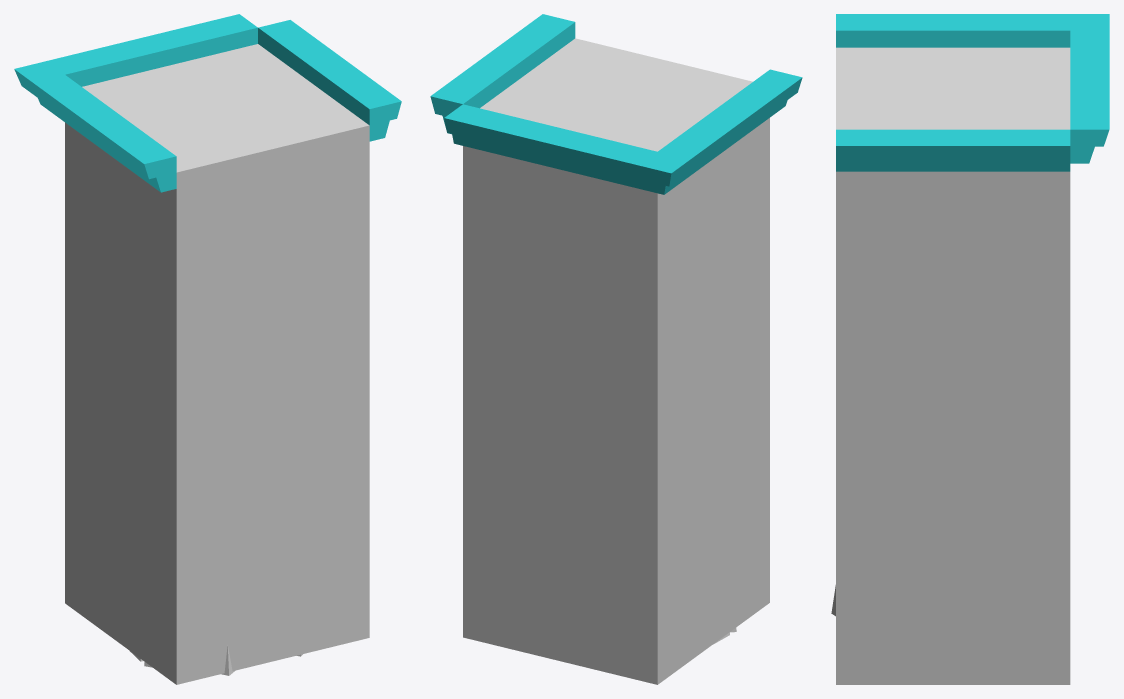
Rendered from blocks.fbx.
3 renders of one model, left to right at view 1: azimuth 30°, elevation 25°; view 2: azimuth 150°, elevation 25°; view 3: azimuth 270°, elevation 25°, orthographic. The views are drawn at different scales.
Parts seen in each view (by area): view 1: block_straight, block_corner; view 2: block_straight, block_corner; view 3: block_straight, block_corner.
Boxes of the visible parts, bbox=[...] form: block_straight: bbox=[33, 20, 401, 684]; block_corner: bbox=[14, 14, 257, 189]; block_straight: bbox=[430, 14, 802, 684]; block_corner: bbox=[444, 76, 801, 194]; block_straight: bbox=[836, 14, 1070, 684]; block_corner: bbox=[836, 14, 1109, 163].
Bounding box in the file's own units: 2.67 × 5.29 × 2.37.
